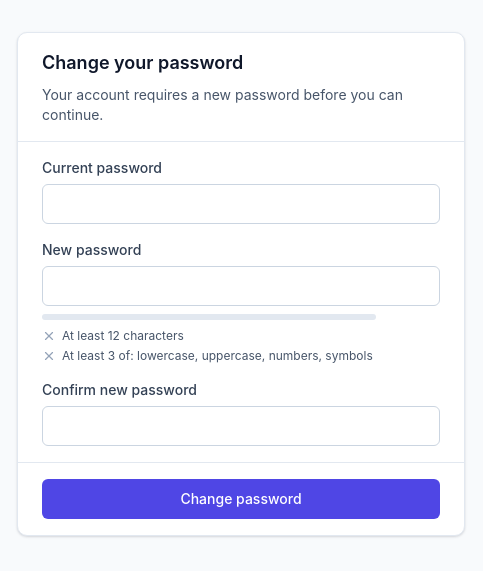
Test: ChangePasswordPage › TC-9: a mismatched confirmation shows an inline error before submit
Expected: the text "Your account requires a new password before you can continue." is shown, [42,85,440,125]
Type "OldPassword1!" into the password field labelled "Current password".
click(241, 204); type("OldPassword1!")  # box [42,184,440,224]
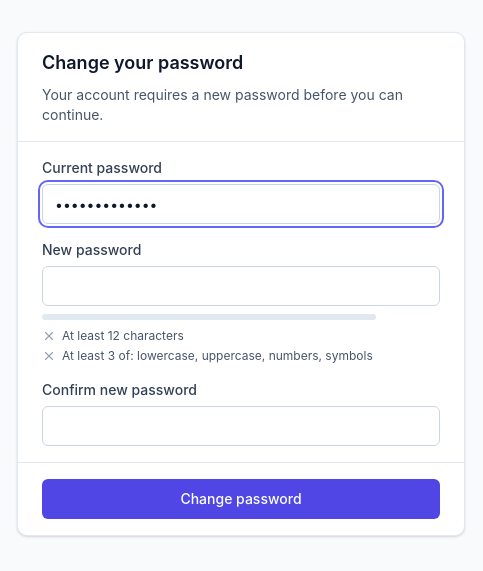
Type "CorrectHorse1!" into the password field labelled "New password".
click(241, 286); type("CorrectHorse1!")  # box [42,266,440,306]
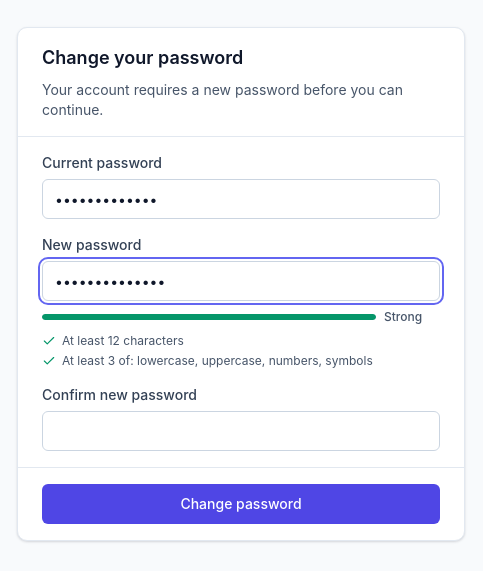
Type "Different1!" into the password field labelled "Confirm new password".
click(241, 431); type("Different1!")  # box [42,411,440,451]
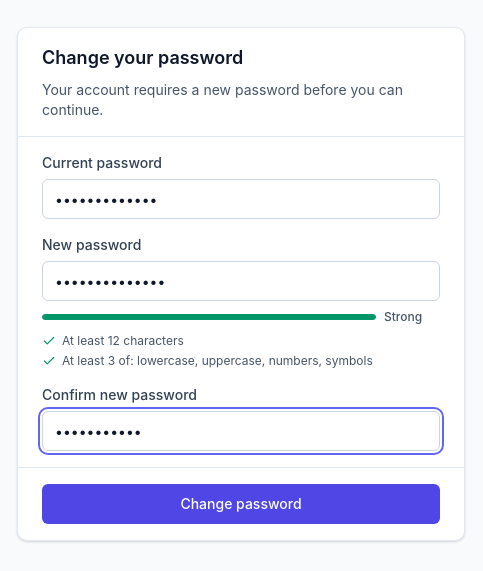
Click the button "Change password".
click(241, 504)  # box [42,484,440,524]
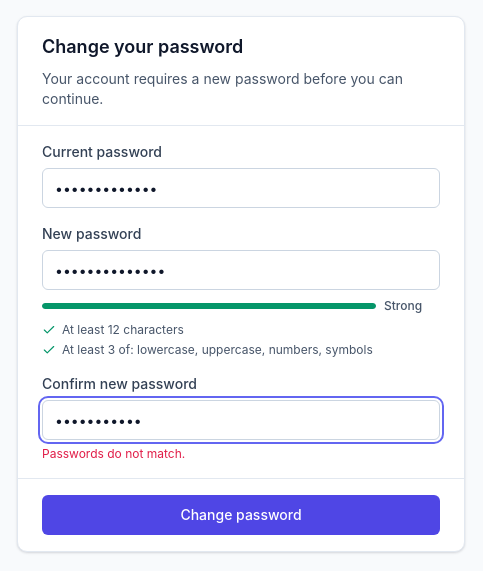
Result: the text "Passwords do not match." is shown at [42,446,185,461]
